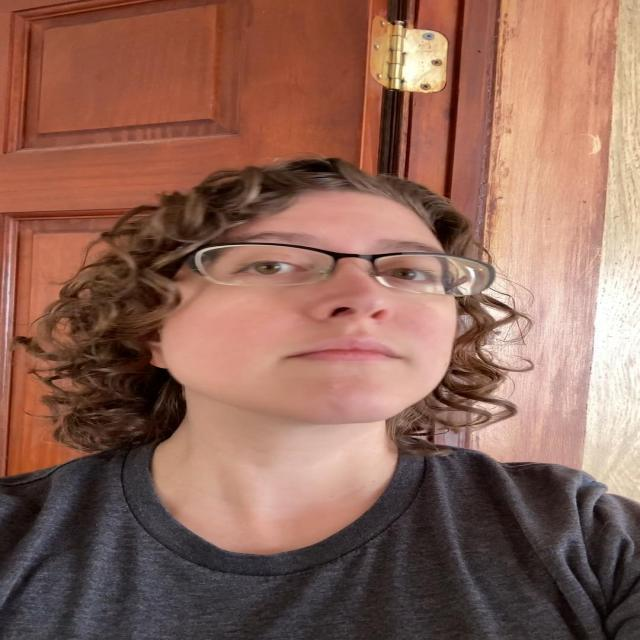no hat: (132, 207, 469, 451)
